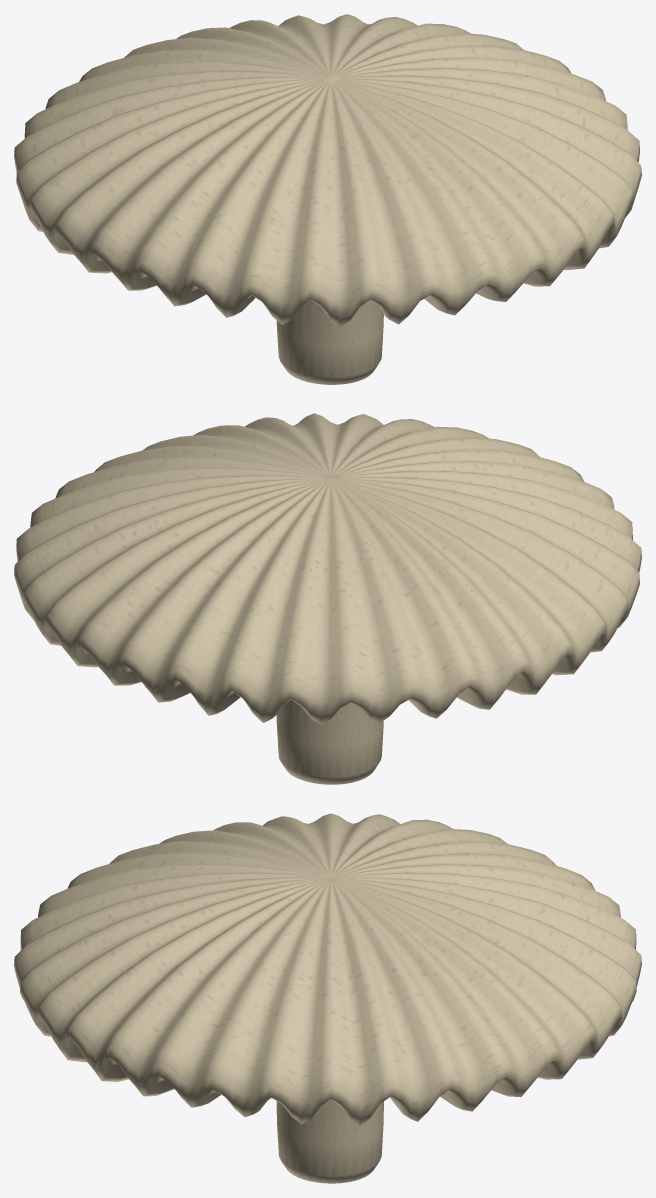
The picture shows the model from 3 angles, top to bottom: view 1: azimuth 30°, elevation 25°; view 2: azimuth 150°, elevation 25°; view 3: azimuth 270°, elevation 25°; orthographic projection.
Visible parts, largest first — view 1: Coeloptychium | inferred living sponge; view 2: Coeloptychium | inferred living sponge; view 3: Coeloptychium | inferred living sponge.
Part boxes in pixels (x1,y1,x2,y2): Coeloptychium | inferred living sponge: [14, 14, 641, 384]; Coeloptychium | inferred living sponge: [14, 413, 641, 784]; Coeloptychium | inferred living sponge: [14, 813, 641, 1183].
Bounding box in the file's own units: 1.01 × 0.5091 × 1.01.
1 material, 1 textured.
